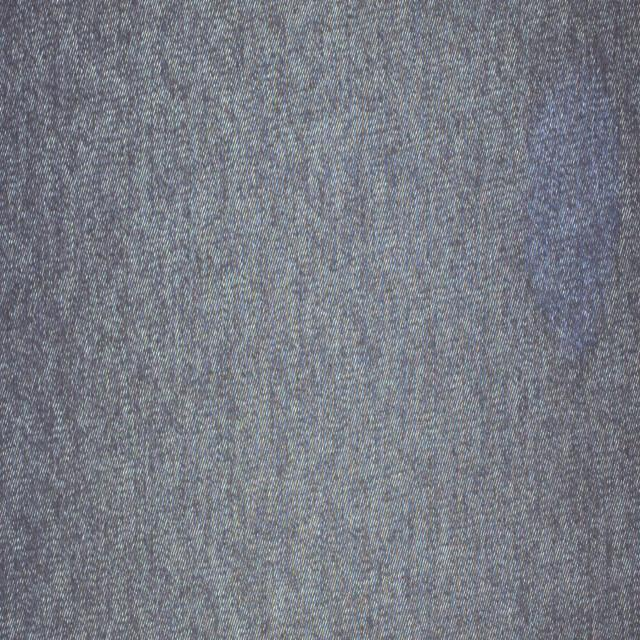Stain: (530, 65, 621, 358)
